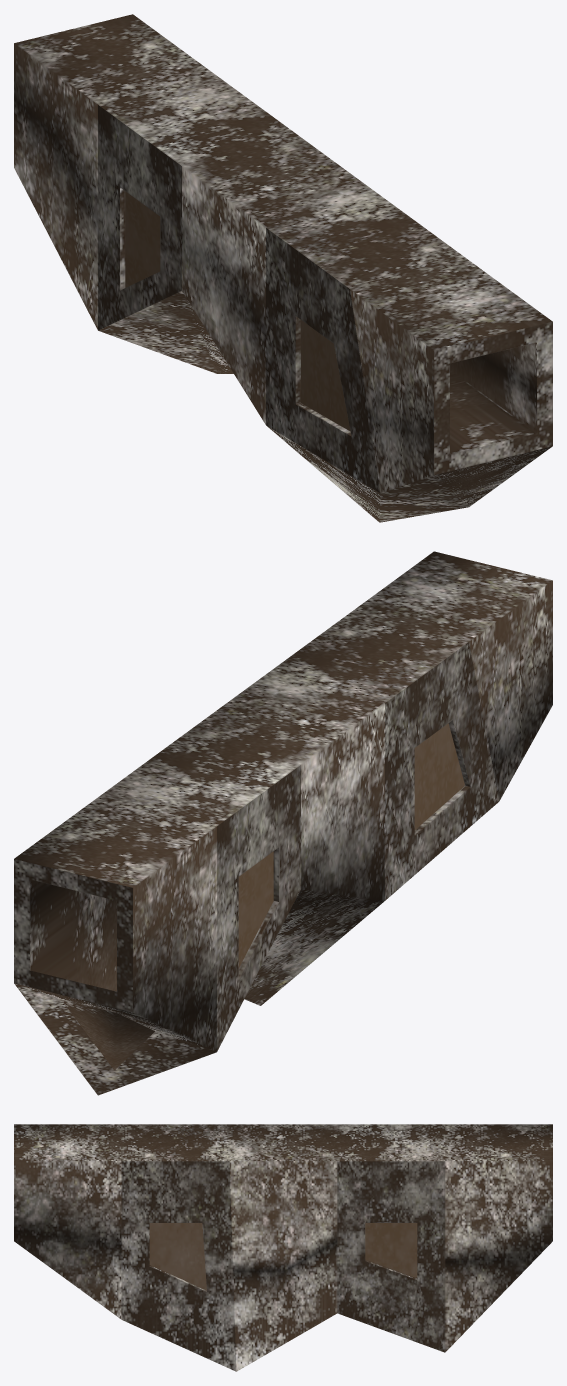
The model's file is EdificioPuente.obj.
3 views of the same model, one above another, from view 1: azimuth 30°, elevation 25°; view 2: azimuth 150°, elevation 25°; view 3: azimuth 270°, elevation 25° (orthographic). The views are drawn at different scales.
Visible parts, largest first — view 1: Tube006; view 2: Tube006; view 3: Tube006.
Part boxes in pixels (bbox=[...]): Tube006: bbox=[14, 14, 552, 522]; Tube006: bbox=[14, 551, 552, 1095]; Tube006: bbox=[14, 1124, 552, 1371].
Bounding box in the file's own units: 14.4 × 37.95 × 88.11.
Materials: 1 (1 with a texture image).
